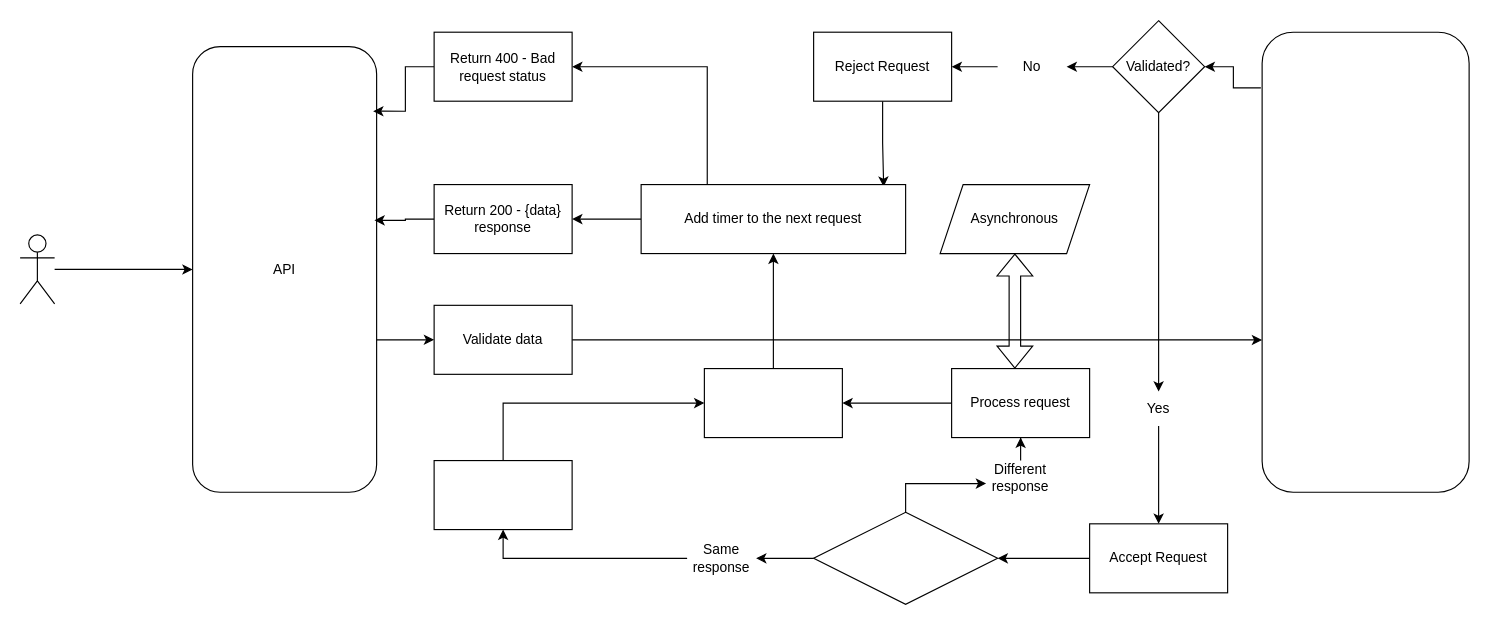
The diagram is 1489 pixels wide and 624 high, and some of its shapes have lost their labels. Here are the shapes that lost their labels. From the top down, the centre of each, then its label:
point (37, 269): User
point (1365, 261): Controllers
point (772, 402): Cache Response
point (502, 494): Get cached response
point (905, 557): Check cached response
